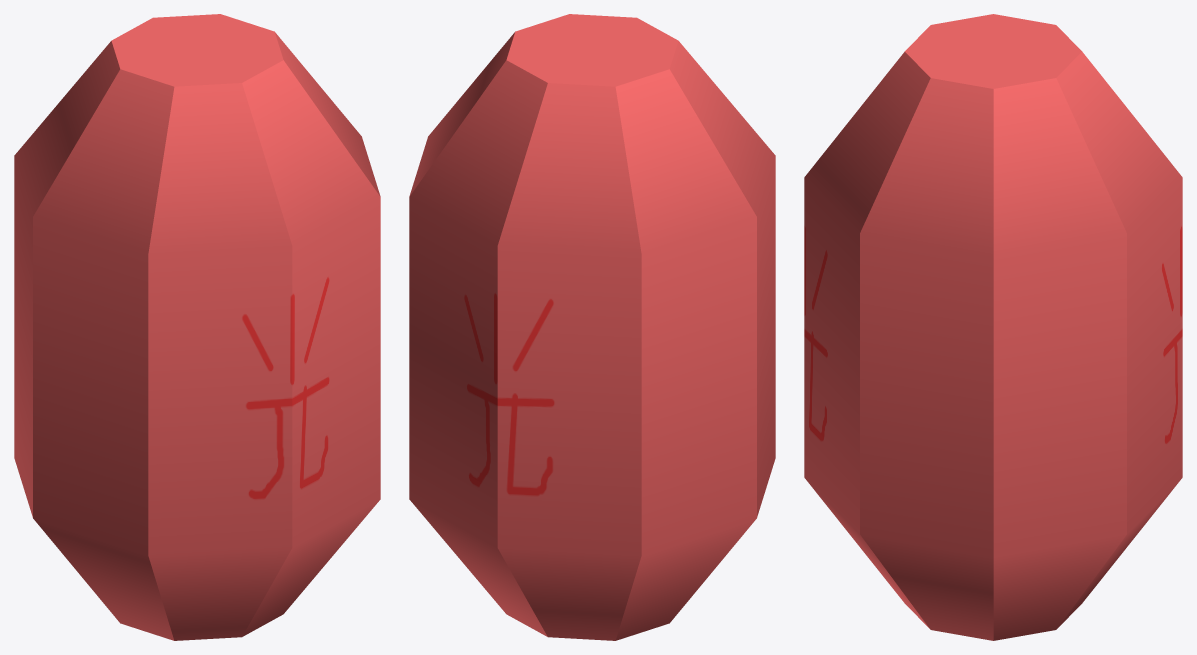
File: chineselamphanging.fbx
3 views of the same model, side by side, from view 1: azimuth 30°, elevation 25°; view 2: azimuth 150°, elevation 25°; view 3: azimuth 270°, elevation 25° (orthographic).
Parts seen in each view (by area): view 1: pCylinder1; view 2: pCylinder1; view 3: pCylinder1.
Part boxes in pixels (box(x1,y1,x2,y2)): pCylinder1: box(14, 14, 380, 640); pCylinder1: box(409, 14, 775, 640); pCylinder1: box(804, 14, 1182, 640).
Size of the model in its own units: 2 by 3.22 by 2.
